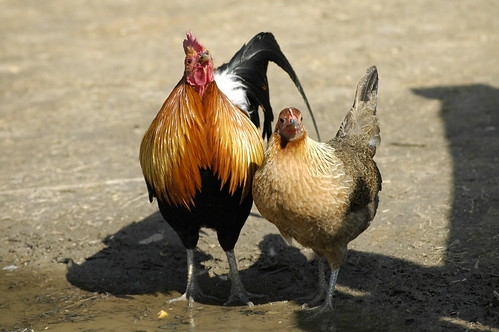chicken: (131, 27, 275, 301), (260, 87, 402, 321)
